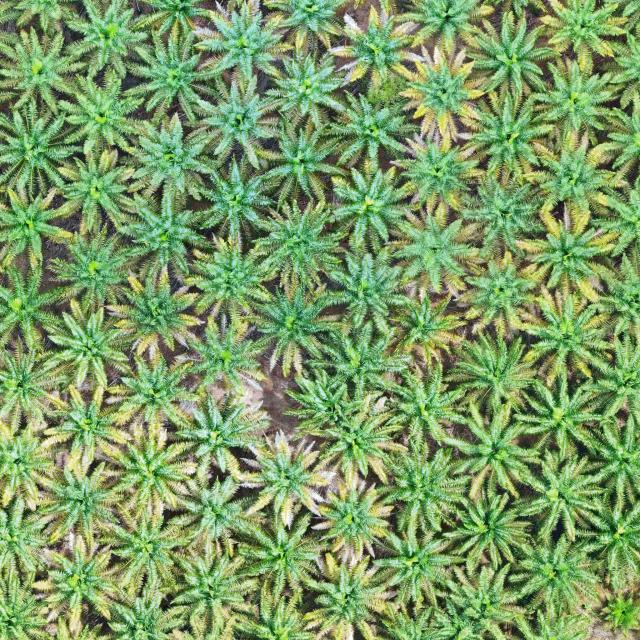Tree: (436, 391, 550, 507), (173, 222, 289, 333), (157, 383, 274, 487), (384, 121, 492, 231), (495, 519, 607, 625), (519, 116, 633, 220), (111, 106, 227, 206), (516, 278, 622, 386), (246, 275, 354, 380), (449, 249, 563, 348), (114, 186, 222, 290), (326, 231, 426, 343), (318, 78, 433, 174), (245, 191, 350, 295), (160, 464, 267, 566), (122, 28, 230, 129), (192, 67, 291, 175), (321, 0, 432, 94), (57, 62, 157, 165), (370, 436, 472, 536), (306, 391, 410, 489), (187, 0, 303, 86), (380, 351, 474, 457), (46, 140, 152, 233), (452, 167, 552, 265), (157, 540, 255, 640), (388, 198, 484, 300), (188, 153, 287, 250), (525, 56, 627, 150), (300, 316, 415, 399), (456, 89, 556, 182), (425, 552, 530, 640), (507, 449, 604, 544), (520, 205, 618, 299), (369, 521, 472, 609), (327, 158, 419, 255), (253, 116, 347, 209), (28, 459, 122, 550), (446, 326, 542, 415), (459, 11, 557, 98), (95, 426, 194, 512), (510, 372, 605, 460), (0, 255, 72, 369), (0, 25, 87, 119), (103, 269, 199, 353), (32, 538, 123, 626), (0, 177, 82, 274), (566, 490, 640, 597), (38, 302, 129, 389), (96, 502, 180, 595), (58, 0, 154, 81), (394, 51, 479, 142), (236, 510, 320, 602), (241, 433, 328, 520), (300, 551, 385, 640), (256, 43, 346, 127), (0, 340, 74, 442), (33, 385, 124, 467), (47, 224, 138, 306), (441, 491, 532, 571), (175, 316, 266, 394), (0, 106, 79, 195), (106, 351, 191, 433), (580, 409, 640, 519), (578, 330, 640, 436), (283, 368, 372, 441), (380, 0, 502, 53), (528, 0, 631, 60), (0, 479, 56, 584), (258, 0, 363, 55), (315, 478, 389, 554), (390, 290, 466, 362), (0, 421, 56, 511), (0, 566, 59, 640), (601, 592, 640, 635)
